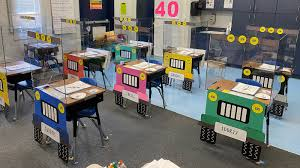desk: (32, 76, 105, 160), (206, 78, 278, 161), (115, 59, 167, 118), (0, 61, 41, 118), (163, 48, 205, 89), (64, 50, 106, 84), (25, 40, 59, 74)
